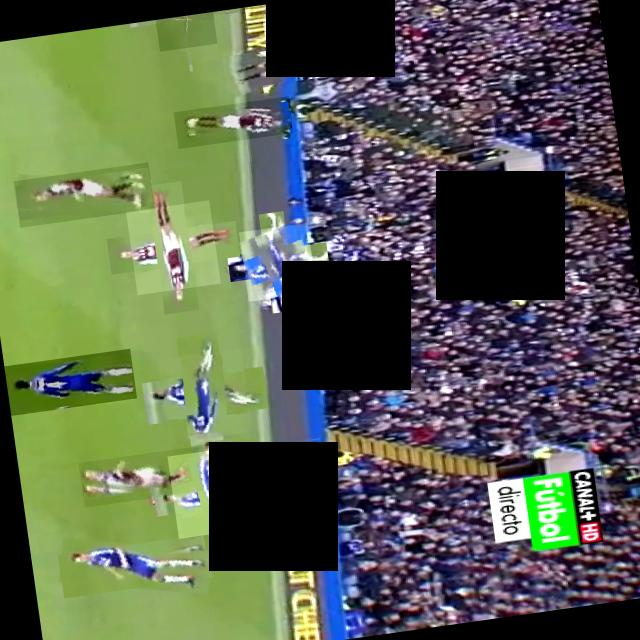referee: (221, 39, 330, 95)
soccer-player: (55, 526, 214, 606), (13, 162, 154, 228), (157, 348, 252, 444), (125, 201, 220, 296), (3, 349, 136, 416), (167, 445, 260, 539), (78, 447, 204, 508), (172, 96, 292, 149), (238, 223, 316, 302), (154, 12, 217, 52)
